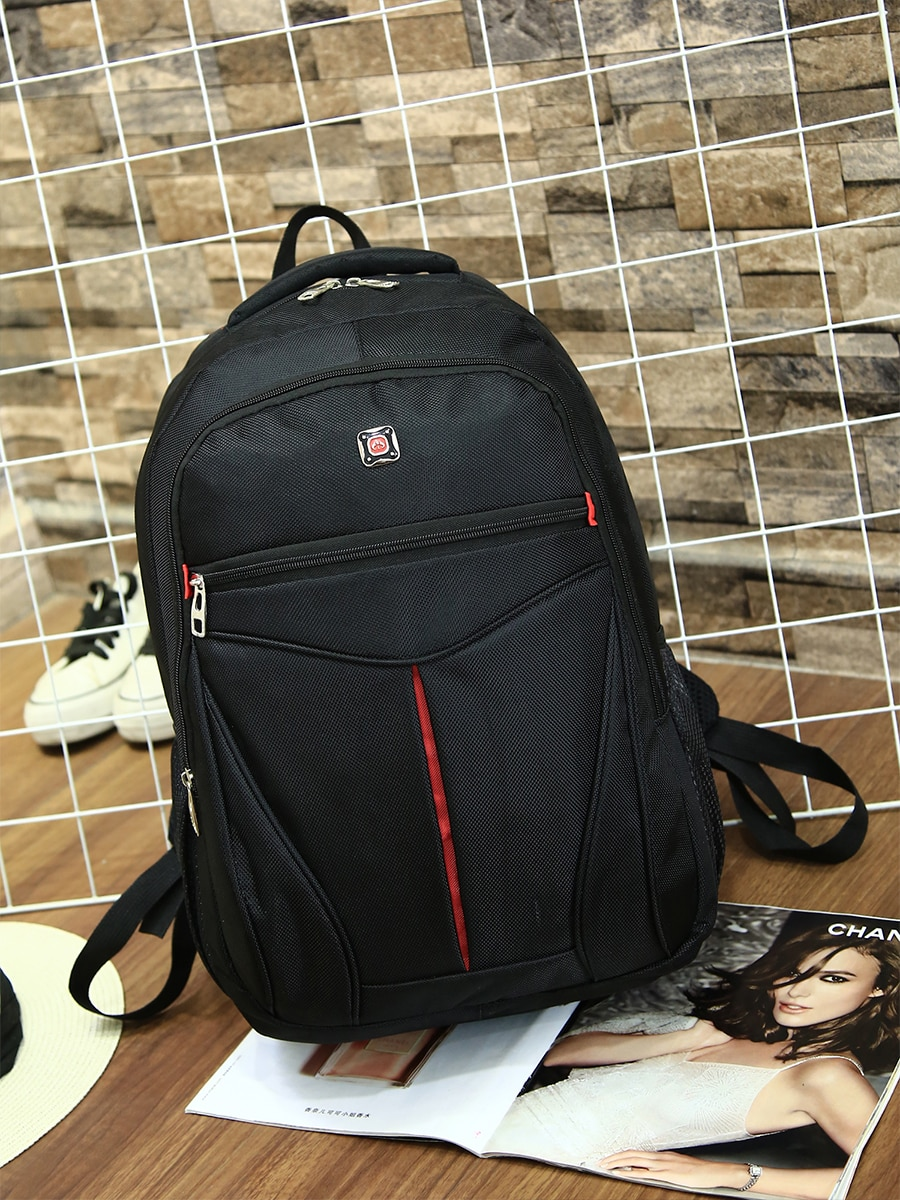Men's Backpacks: (57, 201, 868, 1067)
Shoes: (26, 563, 146, 747)
